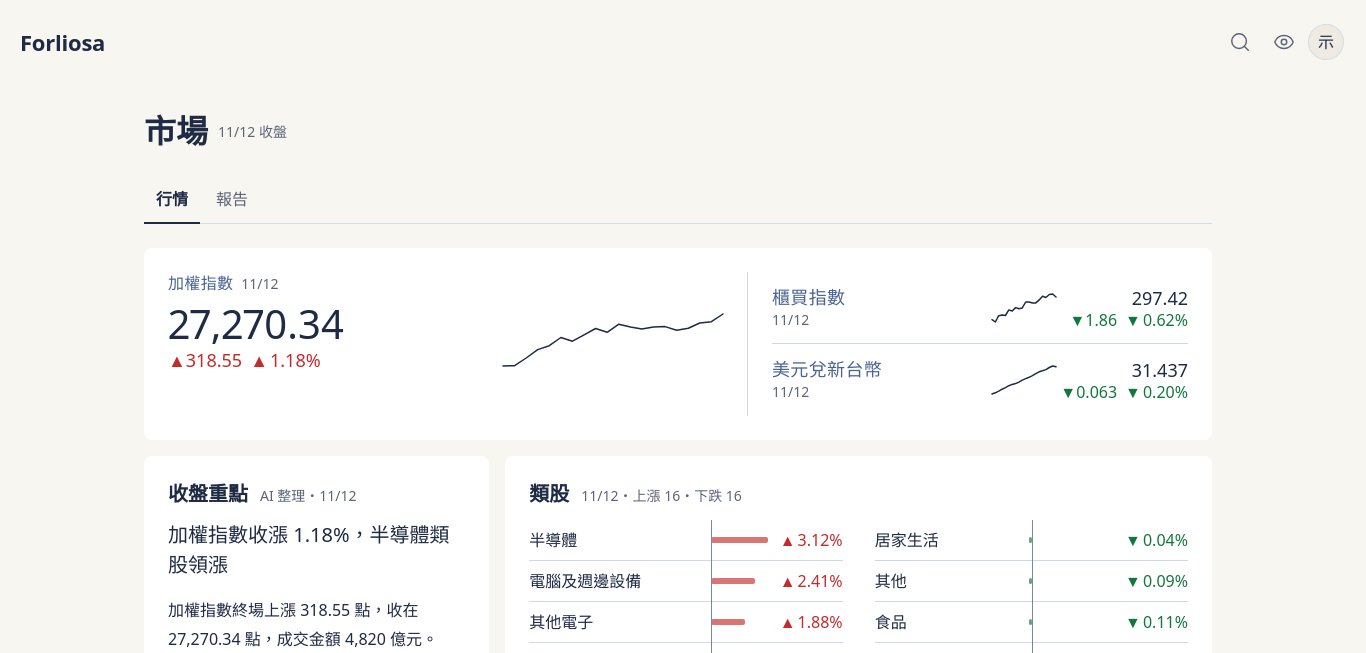
Test case: 市場頁的分頁「行情｜報告」 › 站方管理員：有分頁列；報告分頁預設是最新發布的那一種，選項記在網址；換成週報
Click the tab "報告" at (232, 200), box [204,176,260,224]
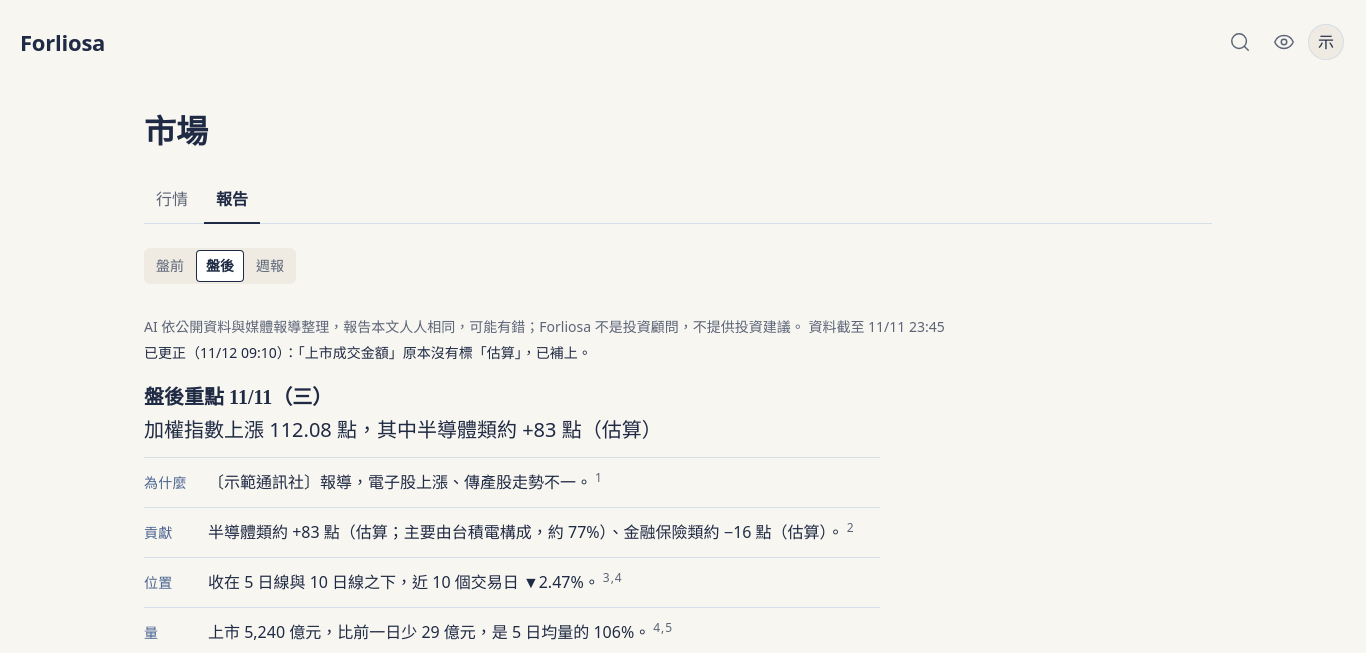
Click the radio button labelled "週報" at (270, 266), box [246,250,294,282]
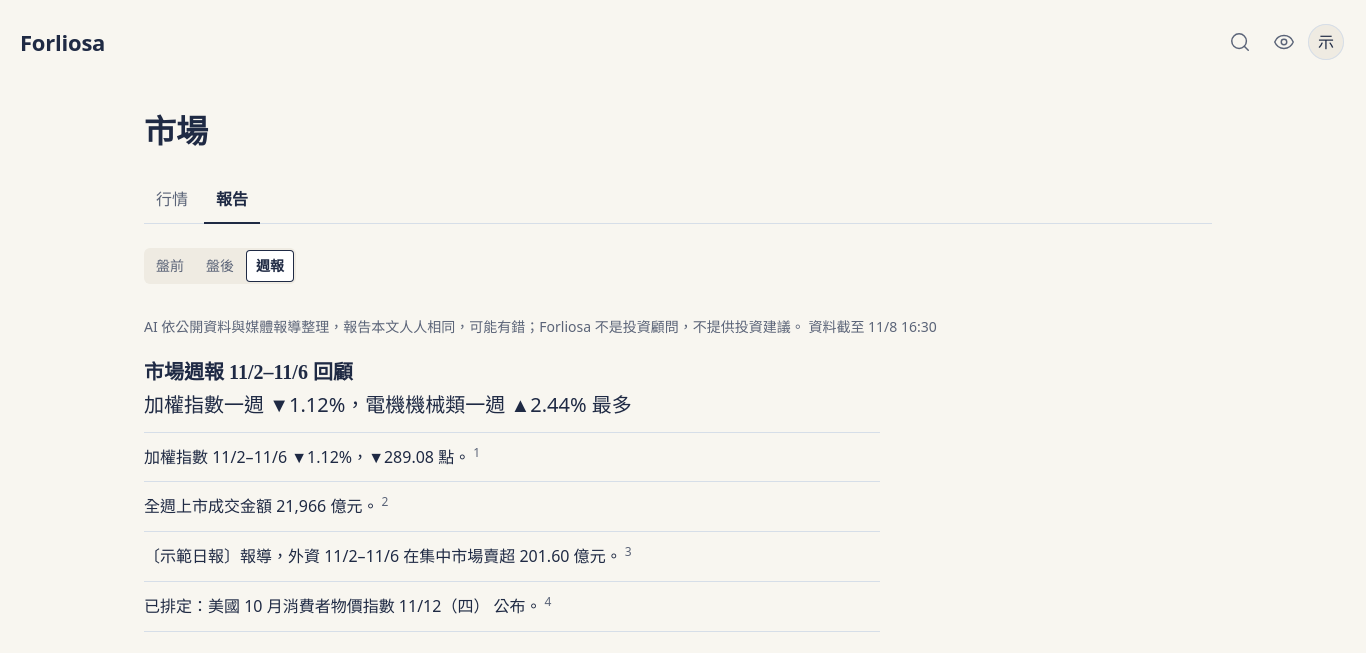
Result: the heading "市場週報 11/2–11/6 回顧" is shown at [144,361,353,383]
